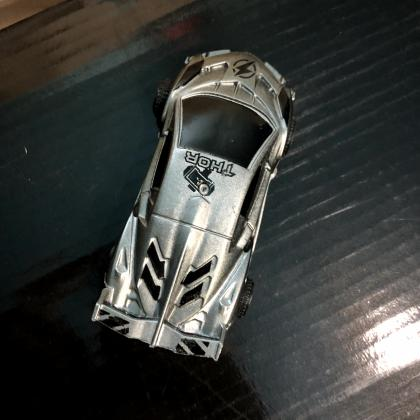Car: (91, 50, 296, 362)
